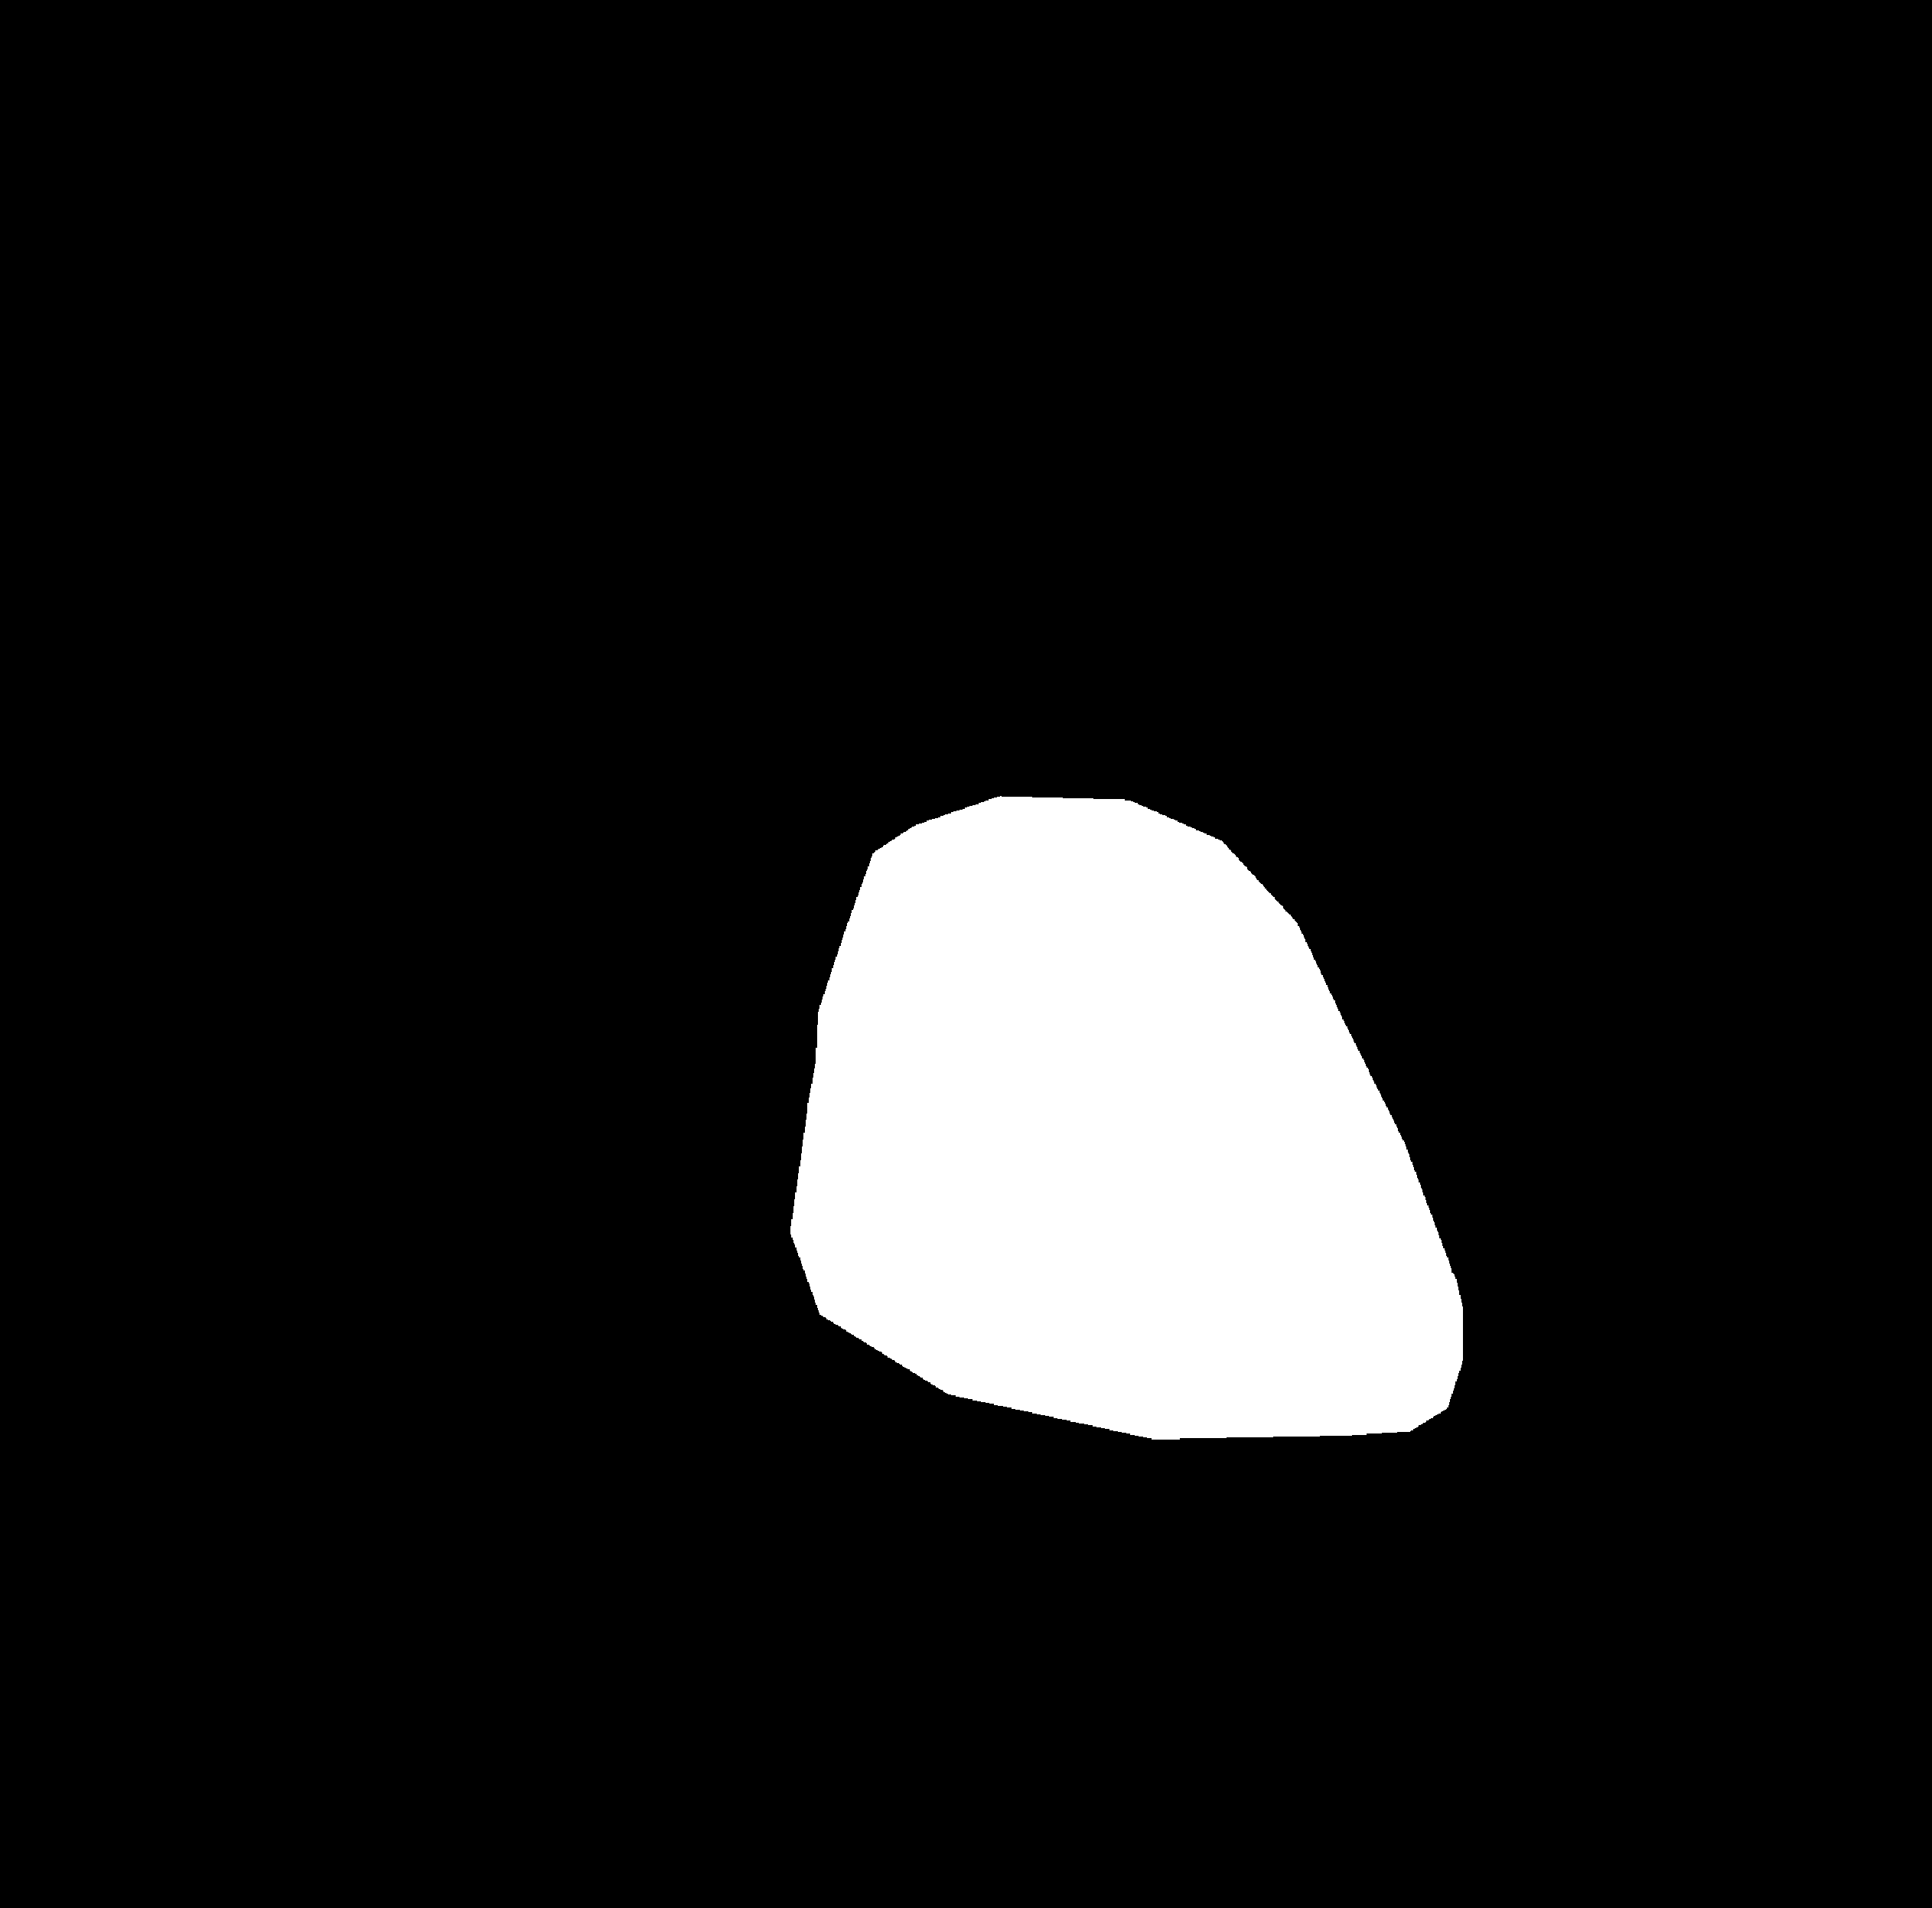heart: (774, 963, 1445, 1534)
left_lung: (260, 334, 954, 1590)
right_lung: (1085, 283, 1621, 1443)
